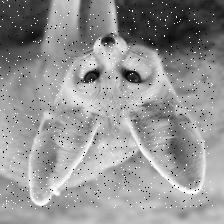fox: (0, 0, 214, 209)
